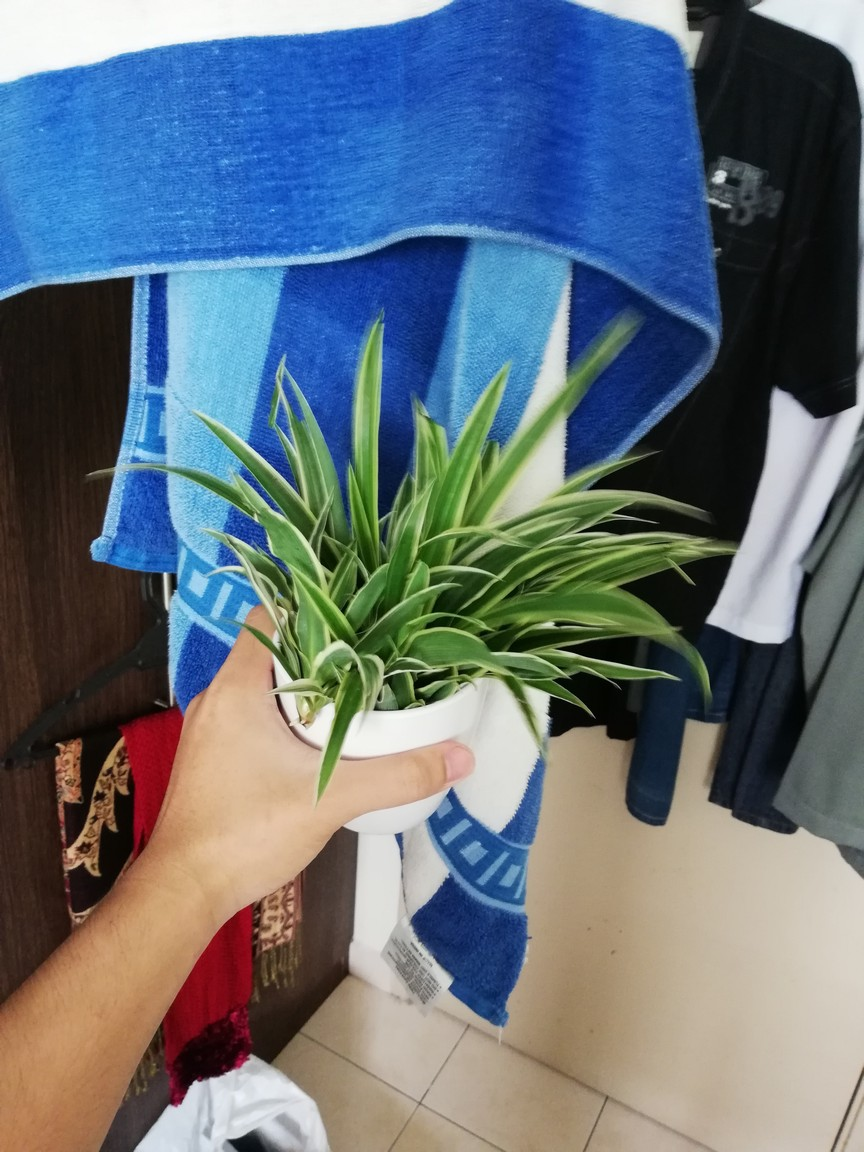daun: (353, 300, 394, 457), (82, 458, 223, 500), (189, 400, 259, 468), (192, 611, 278, 664), (311, 690, 347, 816), (570, 447, 670, 487), (401, 468, 444, 559), (467, 355, 514, 438), (637, 489, 756, 517), (280, 359, 318, 427), (495, 653, 572, 681), (190, 523, 257, 555), (311, 481, 339, 556), (198, 555, 257, 588), (519, 514, 578, 544), (346, 459, 368, 537), (264, 413, 293, 471), (623, 662, 683, 689), (555, 683, 597, 720), (438, 561, 509, 581), (263, 677, 319, 698), (604, 512, 660, 528)
